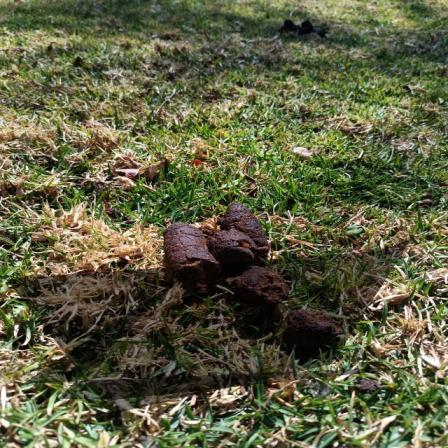dog-poop: (161, 209, 326, 346)
